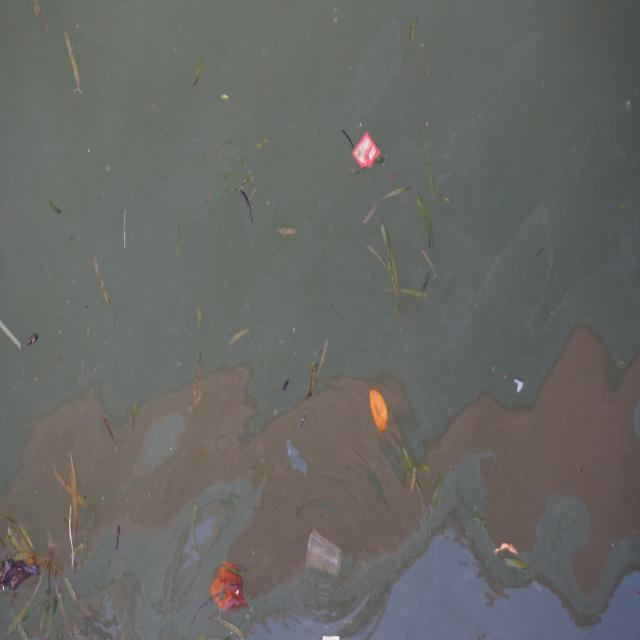Bungkus Makanan: (351, 129, 382, 175)
Bungkus Minuman: (304, 520, 347, 580)
